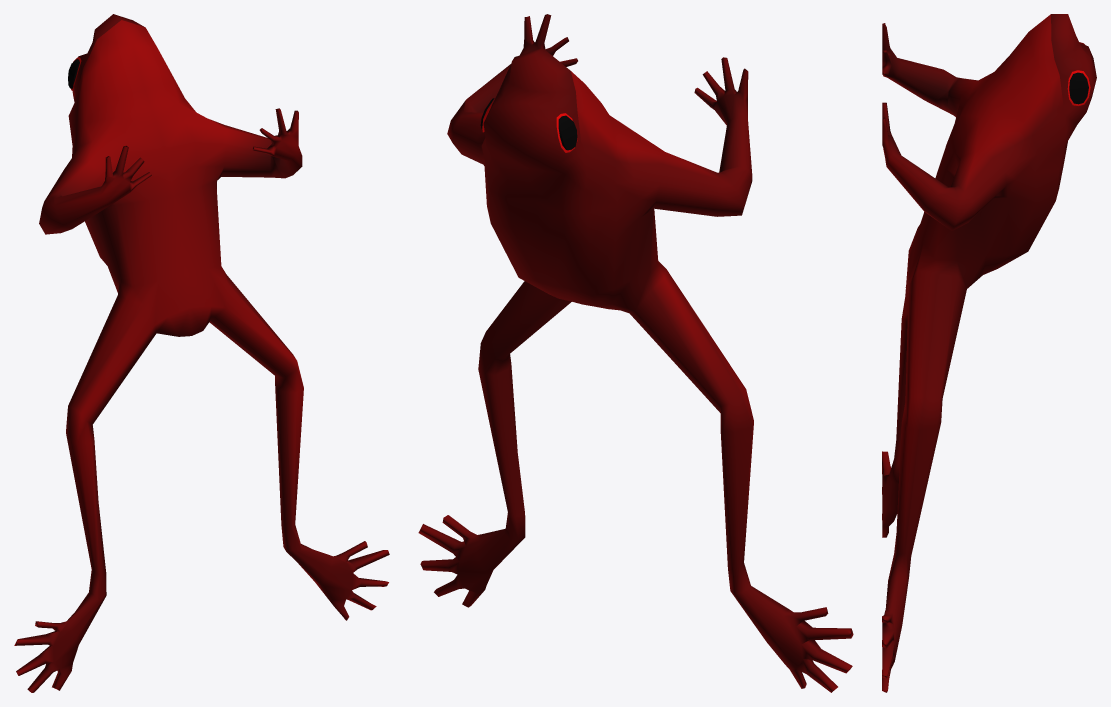
The model's file is green_frog.fbx.
3 views of the same model, side by side, from view 1: azimuth 30°, elevation 25°; view 2: azimuth 150°, elevation 25°; view 3: azimuth 270°, elevation 25° (orthographic). The views are drawn at different scales.
Parts seen in each view (by area): view 1: GreenFrog.001; view 2: GreenFrog.001; view 3: GreenFrog.001.
Boxes of the visible parts, bbox=[...] form: GreenFrog.001: bbox=[14, 14, 389, 692]; GreenFrog.001: bbox=[418, 14, 853, 692]; GreenFrog.001: bbox=[882, 14, 1096, 692].
Size of the model in its own units: 1099 by 1619 by 529.
